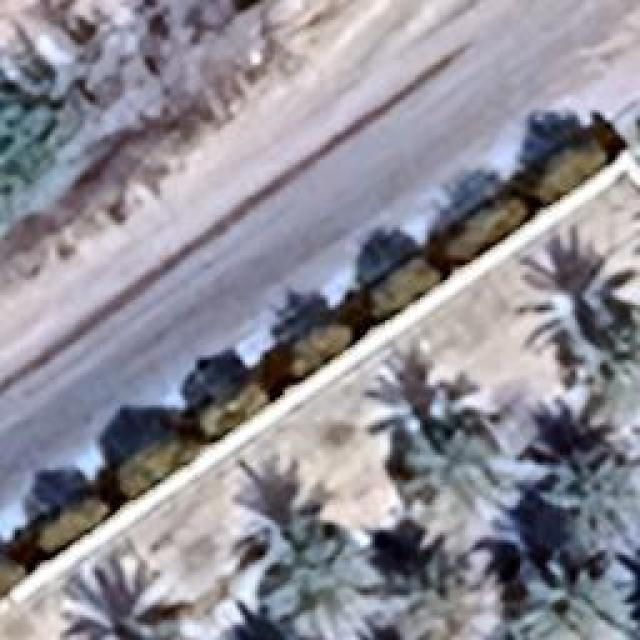PalmTree: (68, 134, 606, 376), (120, 130, 570, 295), (405, 430, 530, 560), (262, 542, 392, 638), (55, 550, 190, 638), (544, 447, 638, 565), (512, 560, 638, 638), (387, 572, 505, 638)
